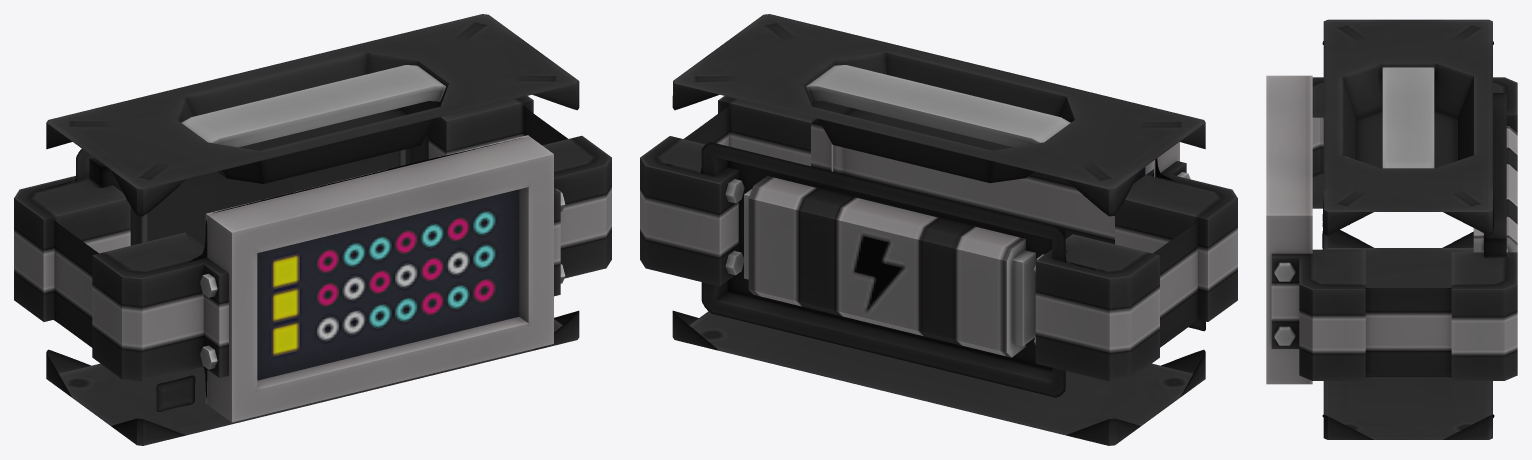
File: obj_interactive_controller_03.fbx
The picture shows the model from 3 angles, left to right: view 1: azimuth 30°, elevation 25°; view 2: azimuth 150°, elevation 25°; view 3: azimuth 270°, elevation 25°; orthographic projection. The views are drawn at different scales.
Parts seen in each view (by area): view 1: obj_interactive_controller_03; view 2: obj_interactive_controller_03; view 3: obj_interactive_controller_03.
Part boxes in pixels (x1,y1,x2,y2): obj_interactive_controller_03: (14, 14, 611, 445); obj_interactive_controller_03: (640, 14, 1237, 445); obj_interactive_controller_03: (1266, 19, 1517, 439).
Size of the model in its own units: 2 by 1 by 0.9991.
